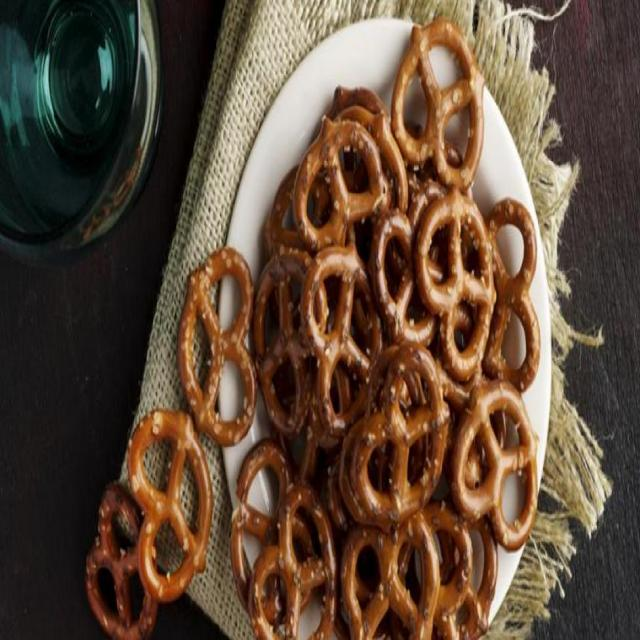Salatini: (109, 19, 541, 635), (124, 400, 212, 610)
